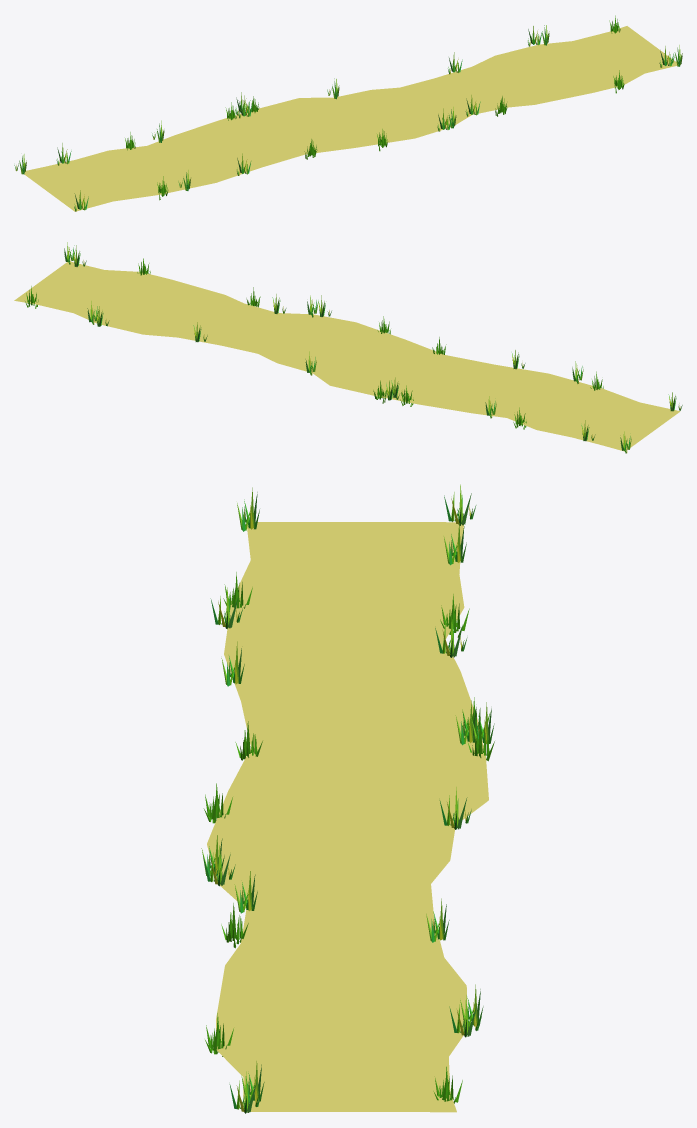
The model's file is center2.fbx.
The picture shows the model from 3 angles, top to bottom: view 1: azimuth 30°, elevation 25°; view 2: azimuth 150°, elevation 25°; view 3: azimuth 270°, elevation 25°; orthographic projection. The views are drawn at different scales.
Parts seen in each view (by area): view 1: Plane; view 2: Plane; view 3: Plane.
Boxes of the visible parts, x1=… form: Plane: x1=24, y1=26, x2=676, y2=211; Plane: x1=14, y1=262, x2=680, y2=451; Plane: x1=207, y1=522, x2=488, y2=1112.
Size of the model in its own units: 12980 by 546 by 2700.
